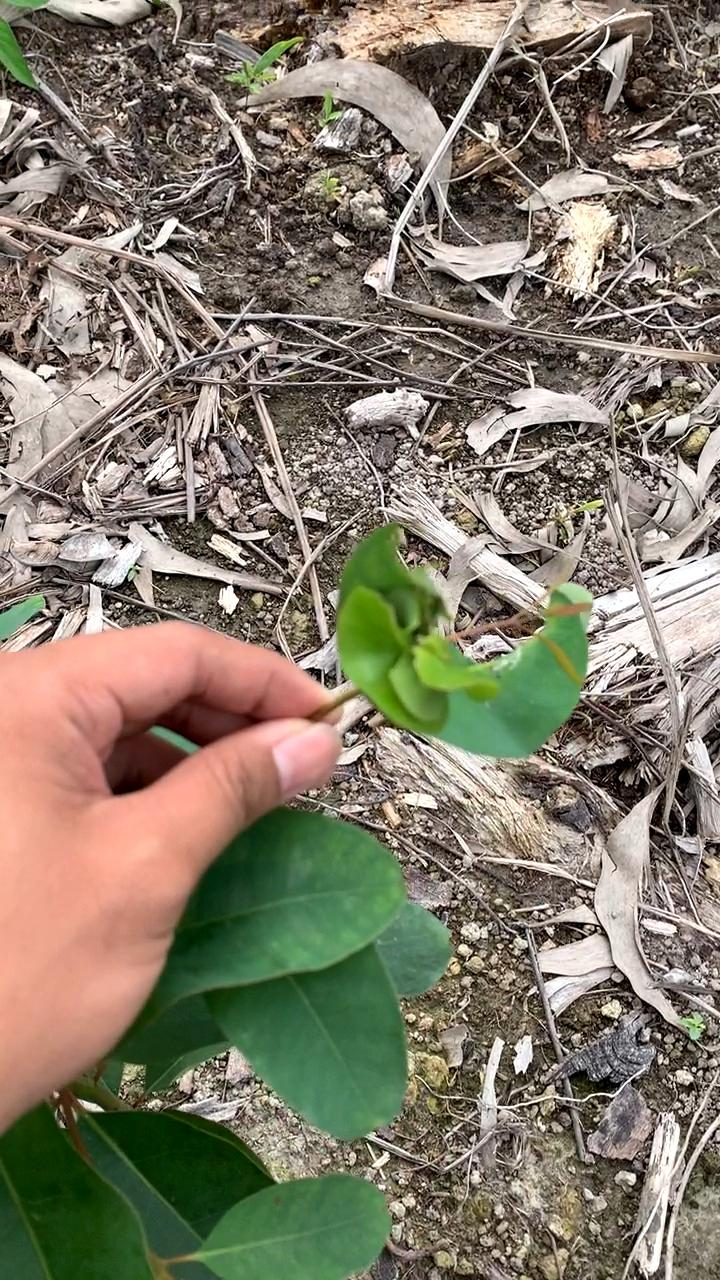Leaf Roller - Leaf: (331, 535, 595, 777)
